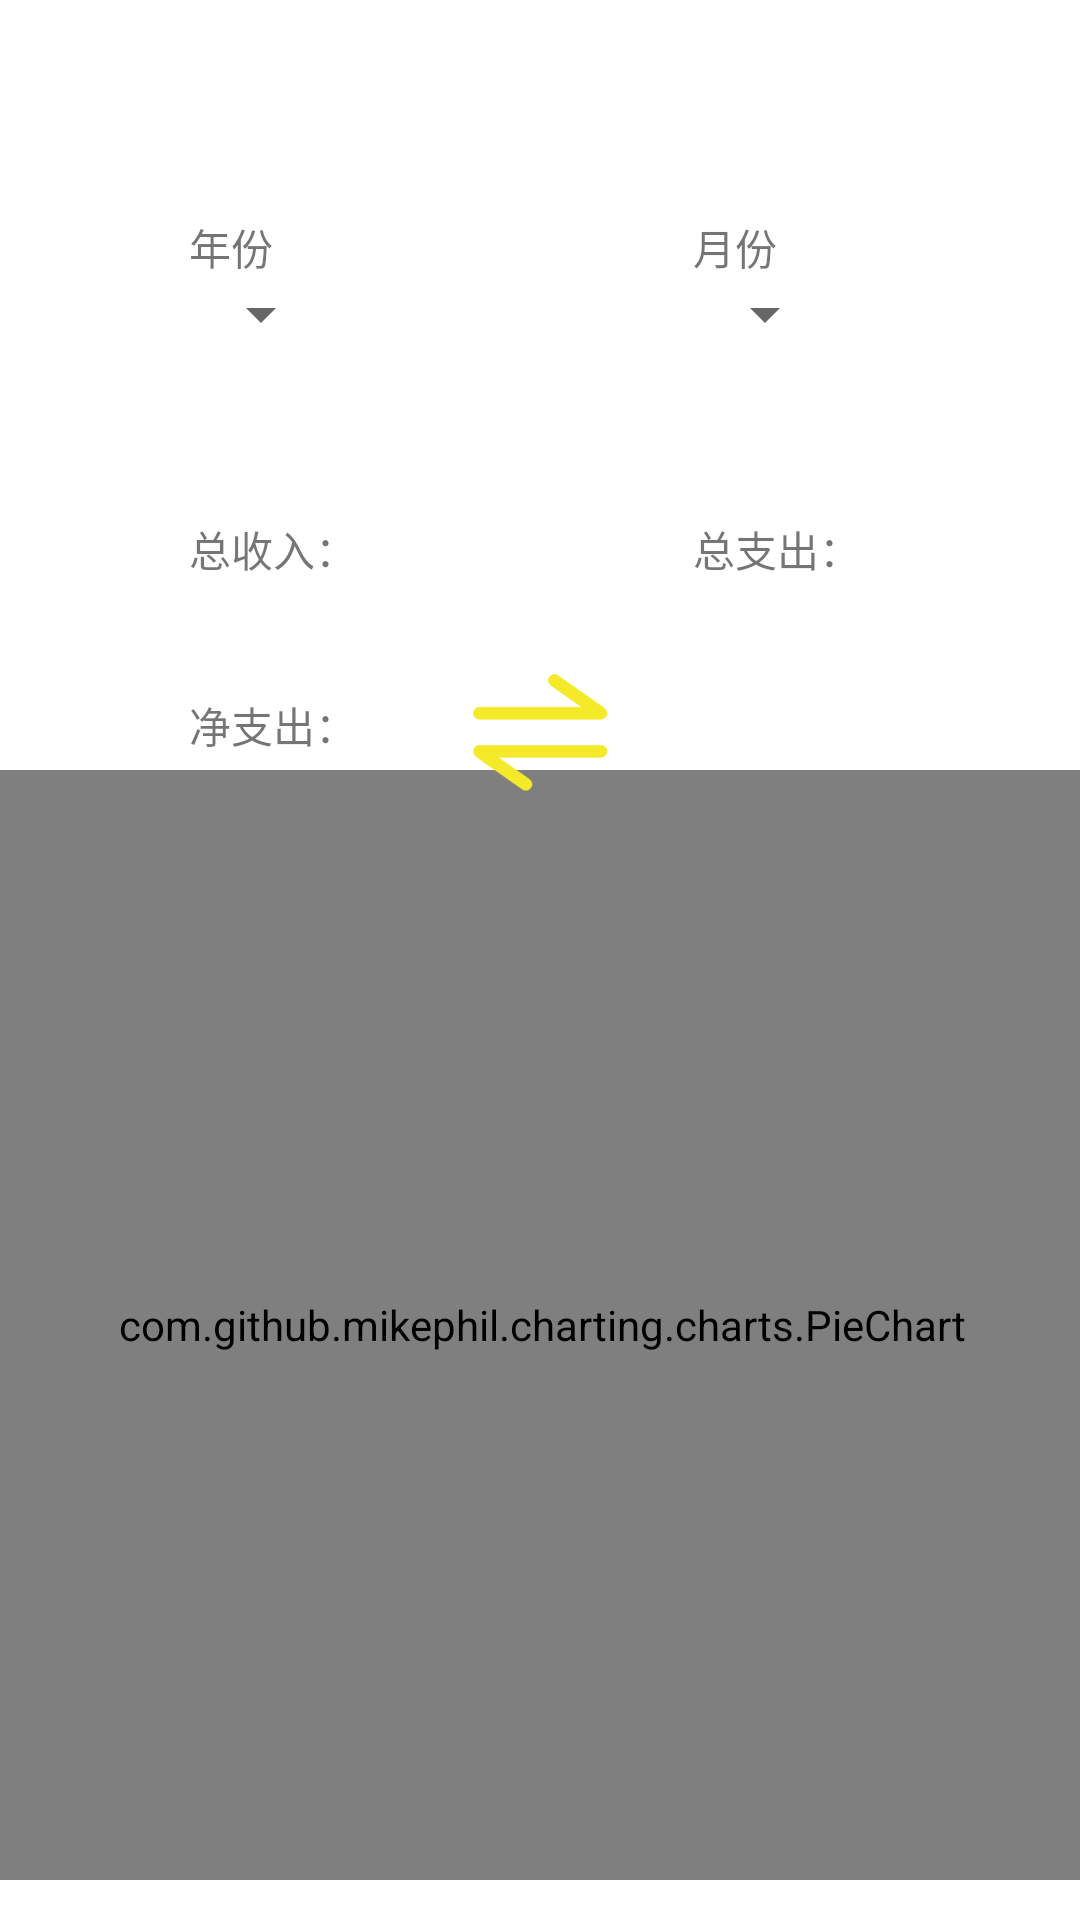

Named icons in this screenshot (1080×1920) and their centers, [x,y]:
switch chart: [540,740]
